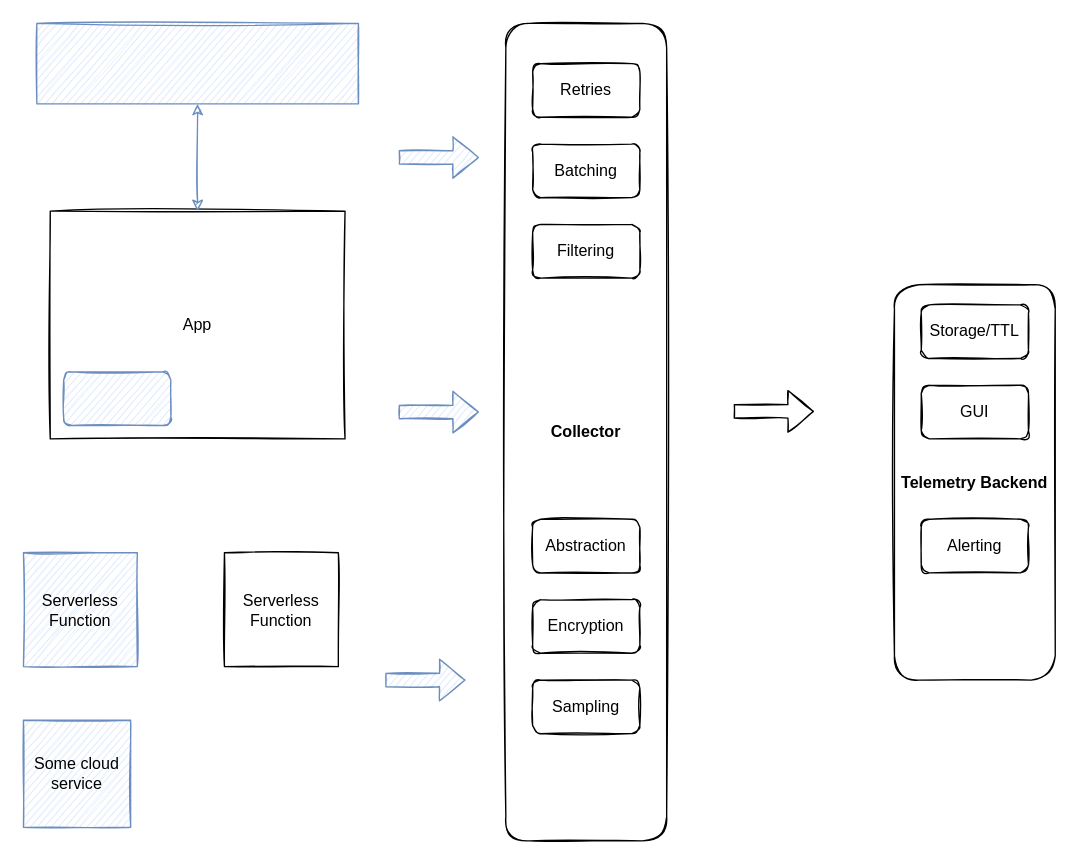
Some shapes in this 1079 by 864 pixel diagram are drawn without their labels. Here are the shapes that lost their labels. From the top down, the centre of each, then its label:
At [197,63]: "PubSub".
At [116,398]: "Lib 1".
